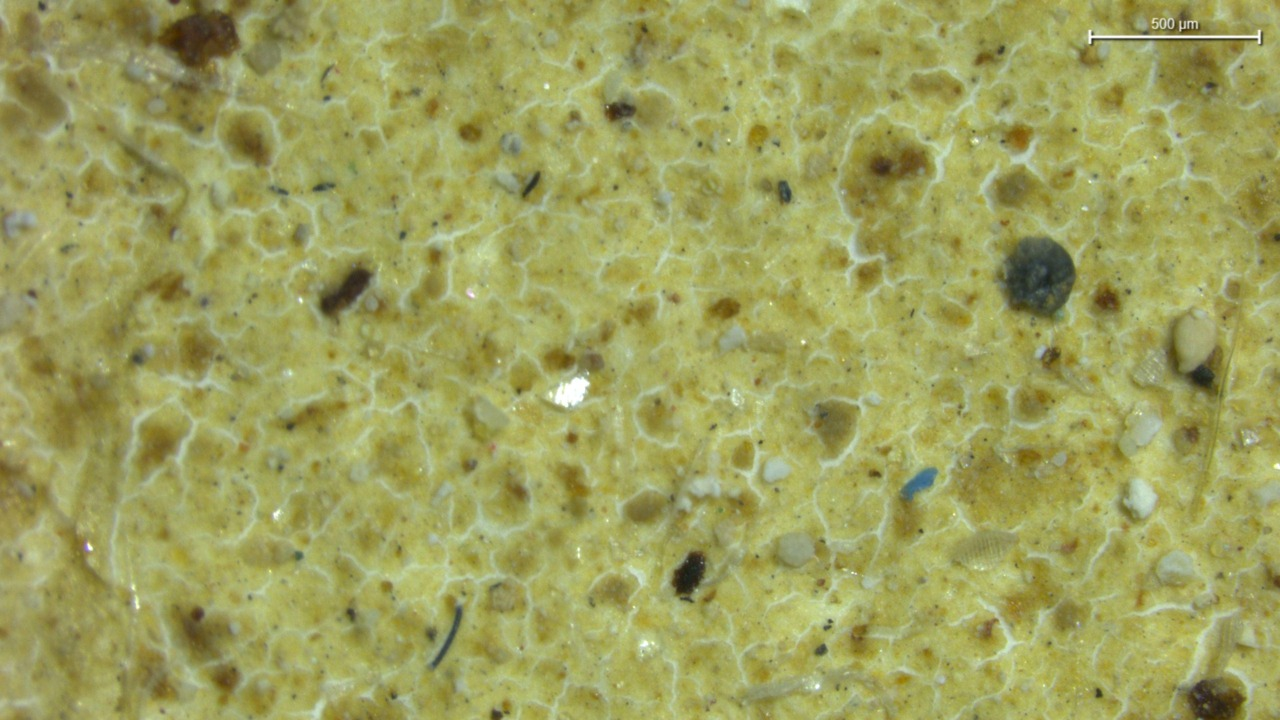microplastic_fragment: (1003, 237, 1075, 317), (1172, 310, 1217, 374), (1123, 478, 1158, 519), (762, 456, 792, 483)
